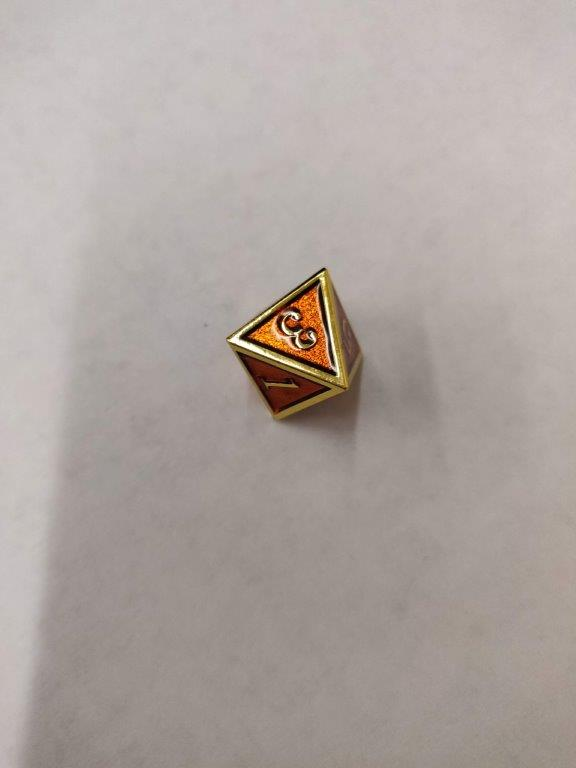d8-3: (223, 267, 370, 423)
